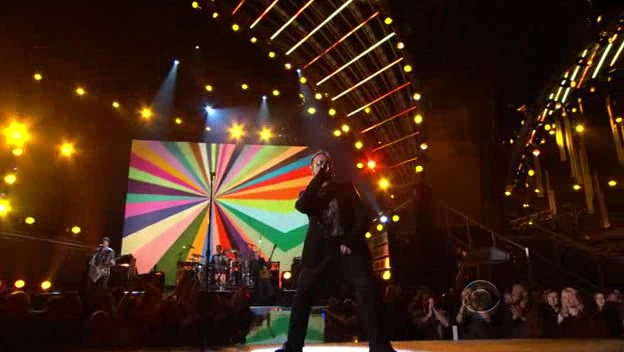person: (298, 149, 365, 271), (295, 149, 362, 271), (301, 149, 368, 271), (298, 146, 365, 268), (298, 152, 365, 274)
target_negative: (193, 292, 507, 322), (120, 316, 547, 336), (611, 72, 624, 297), (386, 238, 450, 257), (110, 4, 180, 20), (254, 337, 425, 341)
